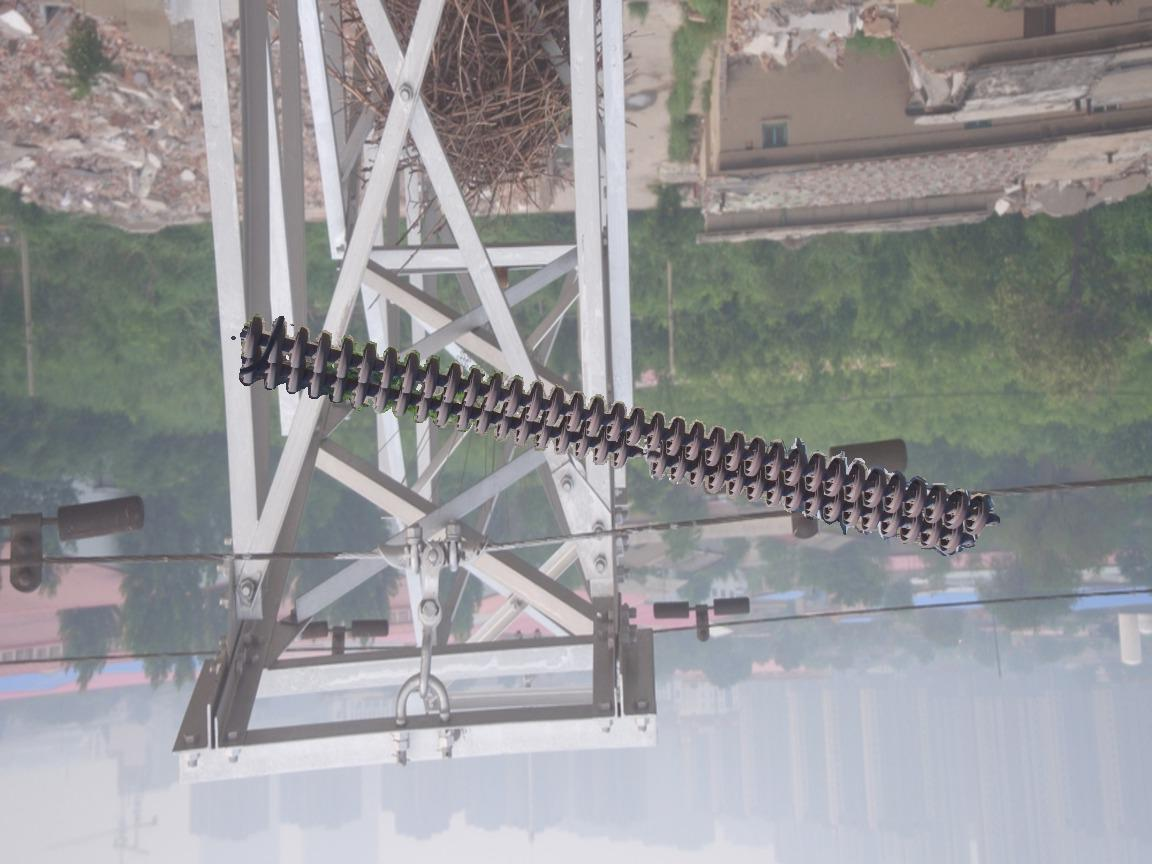insulator: (235, 311, 1001, 561)
insulator_stringdrop: (608, 439, 669, 485)
